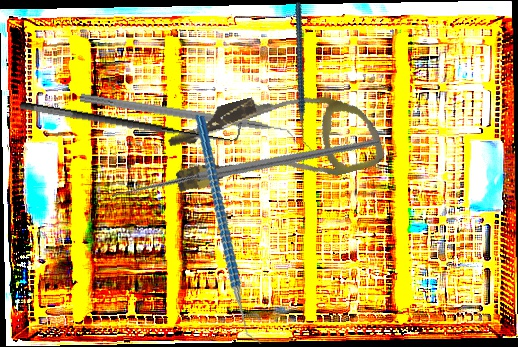Cannula: (160, 67, 388, 217)
Chopper: (168, 114, 291, 345), (255, 1, 353, 153), (77, 92, 300, 149)
Hook Surgical: (106, 62, 381, 287), (19, 83, 243, 151)
